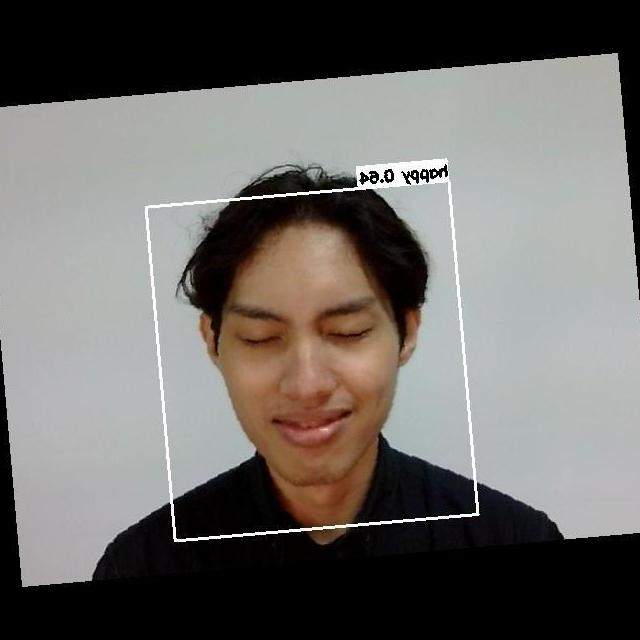Sad: (218, 281, 393, 455)
